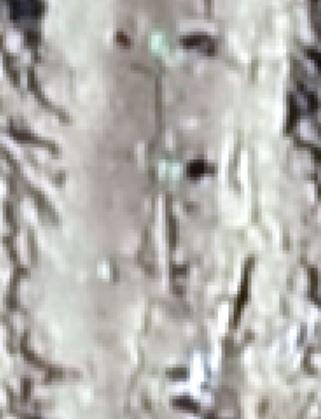cotton: (169, 163, 186, 180), (152, 34, 168, 51)
